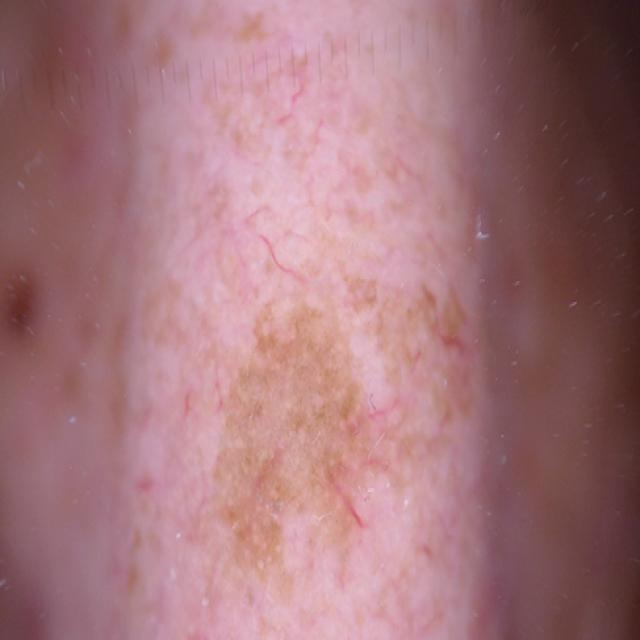Keratosis: (149, 168, 461, 587)
